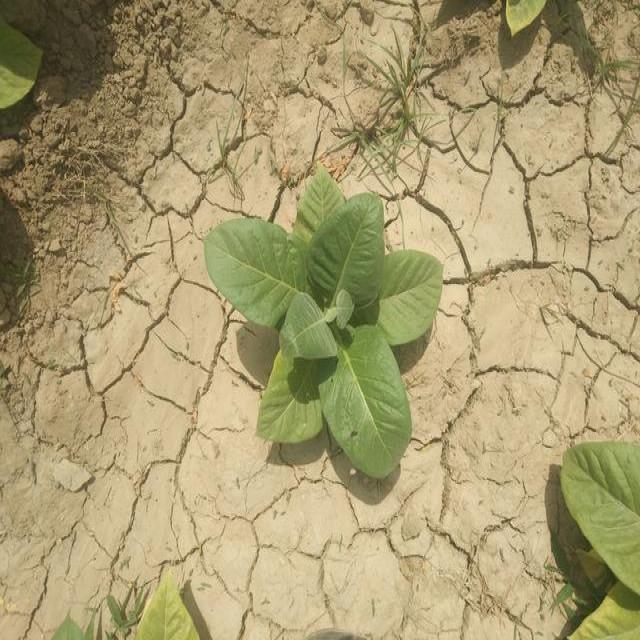crop: (201, 162, 442, 482), (561, 444, 640, 640)
